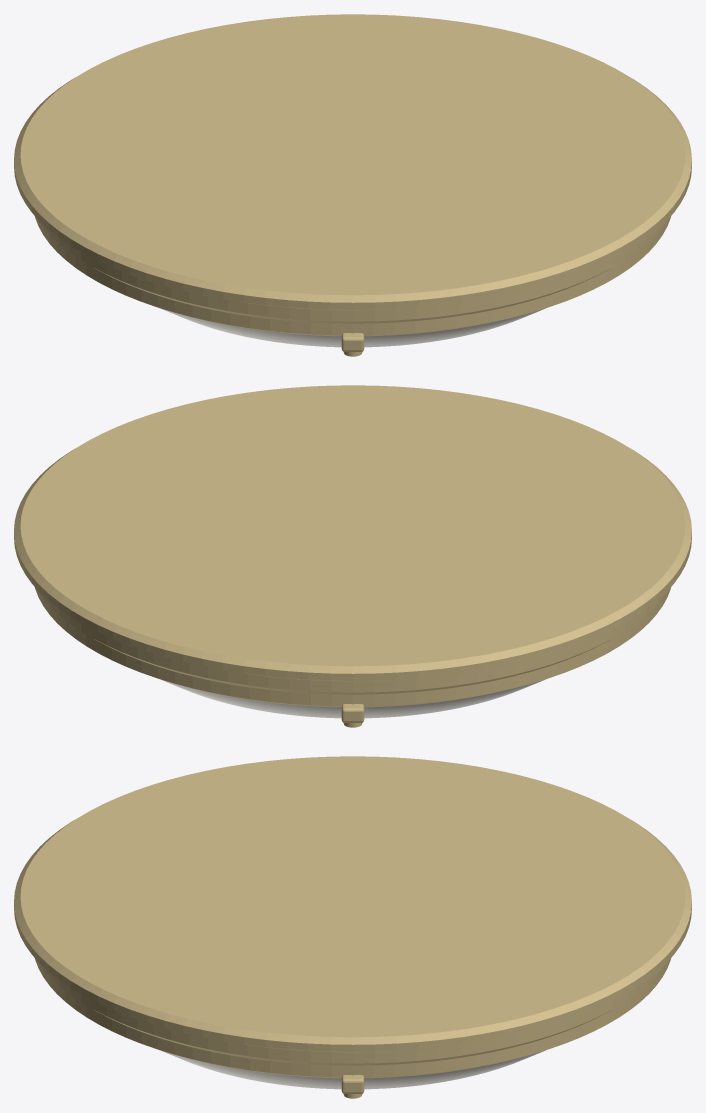
The model's file is lift_ceiling_lamp.glb.
3 renders of one model, top to bottom at view 1: azimuth 30°, elevation 25°; view 2: azimuth 150°, elevation 25°; view 3: azimuth 270°, elevation 25°, orthographic.
Visible parts, largest first — view 1: CeilingPlate, SteppedBezel, OpalBowl; view 2: CeilingPlate, SteppedBezel, OpalBowl; view 3: CeilingPlate, SteppedBezel, OpalBowl.
Boxes of the visible parts, box(x1,y1,x2,y2) form: CeilingPlate: box(14, 14, 691, 310); SteppedBezel: box(35, 216, 670, 336); OpalBowl: box(160, 308, 545, 347); CeilingPlate: box(14, 385, 691, 681); SteppedBezel: box(35, 587, 670, 707); OpalBowl: box(160, 679, 545, 718); CeilingPlate: box(14, 756, 691, 1052); SteppedBezel: box(35, 958, 670, 1078); OpalBowl: box(160, 1050, 545, 1089).
Bounding box in the file's own units: 0.516 × 0.112 × 0.516.
